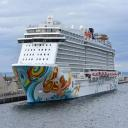cruises: (11, 8, 123, 107)
